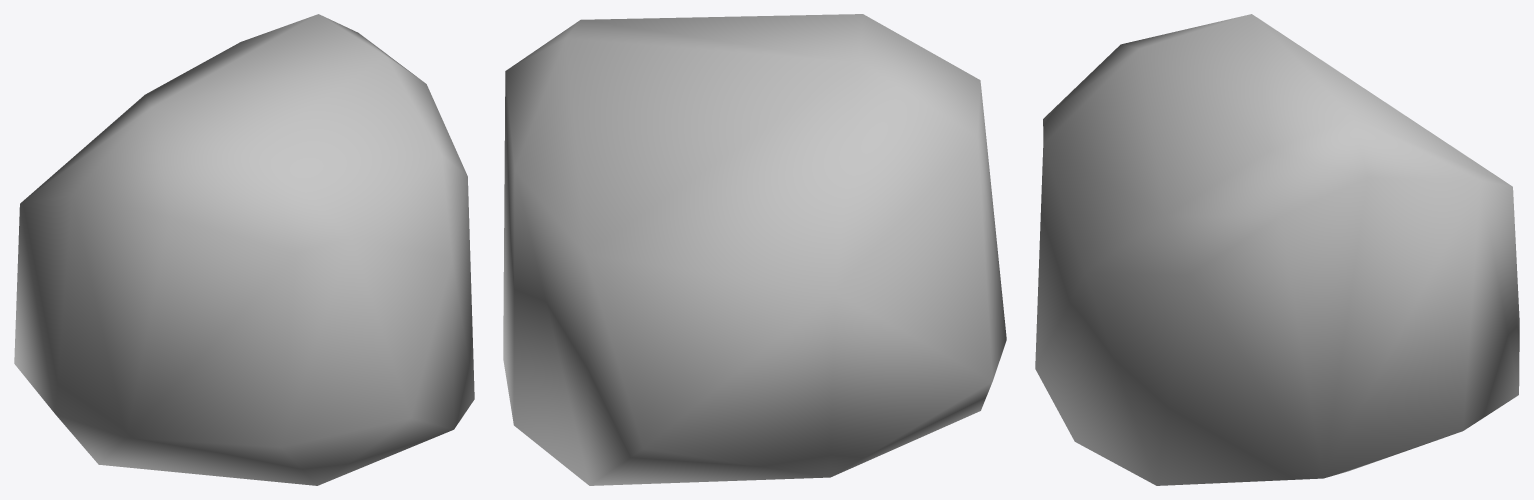
Rendered from Stone8.fbx.
3 renders of one model, left to right at view 1: azimuth 30°, elevation 25°; view 2: azimuth 150°, elevation 25°; view 3: azimuth 270°, elevation 25°, orthographic. The views are drawn at different scales.
Parts seen in each view (by area): view 1: Piedra_8; view 2: Piedra_8; view 3: Piedra_8.
Boxes of the visible parts, x1,y1,x2,y2 form: Piedra_8: (14,14,474,485); Piedra_8: (503,14,1006,485); Piedra_8: (1035,14,1519,485).
Bounding box in the file's own units: 3.48 × 2.83 × 3.58.
